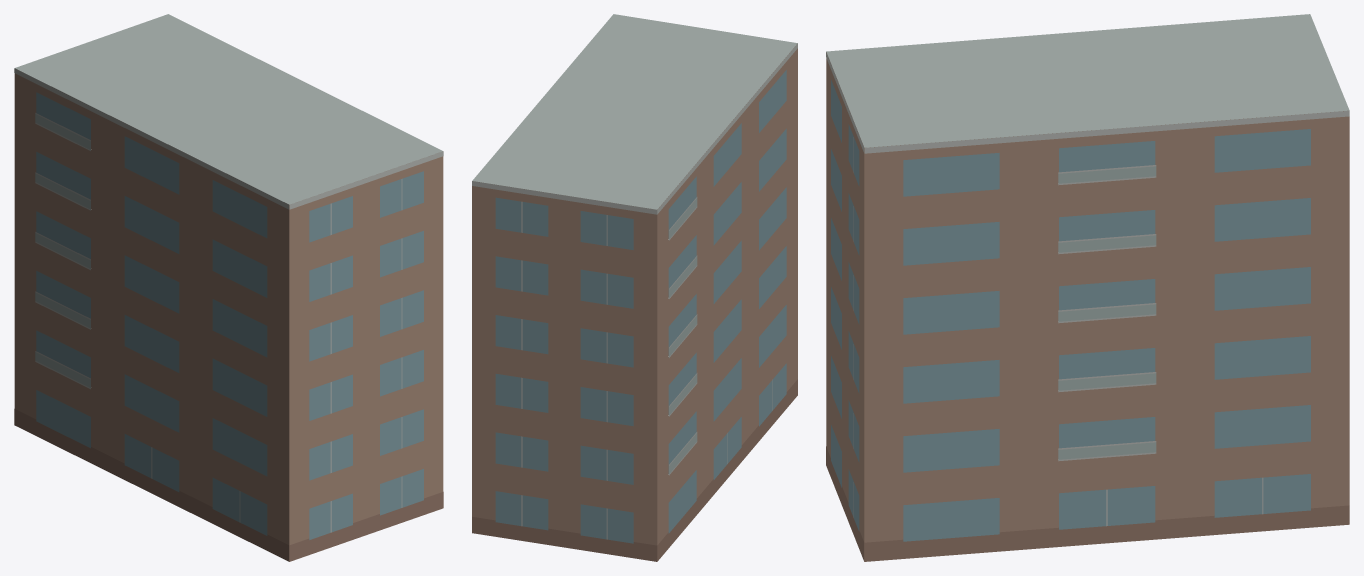
File: survey-upis-32912424.glb
3 views of the same model, side by side, from view 1: azimuth 30°, elevation 25°; view 2: azimuth 150°, elevation 25°; view 3: azimuth 270°, elevation 25° (orthographic). The views are drawn at different scales.
Parts seen in each view (by area): view 1: survey-upis-32912424.tmp; view 2: survey-upis-32912424.tmp; view 3: survey-upis-32912424.tmp.
Part boxes in pixels (x1,y1,x2,y2): survey-upis-32912424.tmp: (14,14,443,561); survey-upis-32912424.tmp: (472,14,797,561); survey-upis-32912424.tmp: (826,14,1349,561).
Bounding box in the file's own units: 12 × 17.3 × 19.83.
